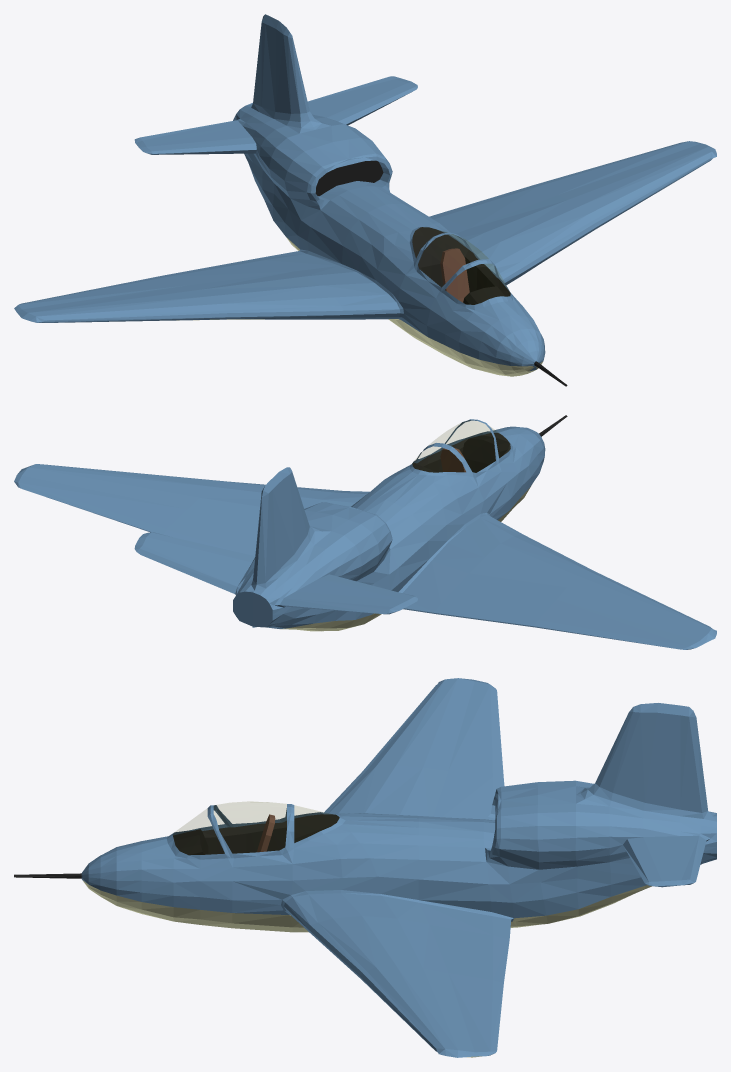
File: Aircraft 2 body.glb
3 renders of one model, top to bottom at view 1: azimuth 30°, elevation 25°; view 2: azimuth 150°, elevation 25°; view 3: azimuth 270°, elevation 25°, orthographic. The views are drawn at different scales.
Parts seen in each view (by area): view 1: tripo_node_edf78f18-7d13-4f10-a8f3-7c098e01f3a8; view 2: tripo_node_edf78f18-7d13-4f10-a8f3-7c098e01f3a8, tripo_node_edf78f18-7d13-4f10-a8f3-7c098e01f3a8.002; view 3: tripo_node_edf78f18-7d13-4f10-a8f3-7c098e01f3a8, tripo_node_edf78f18-7d13-4f10-a8f3-7c098e01f3a8.002.
Part boxes in pixels (left/top/right/bottom): tripo_node_edf78f18-7d13-4f10-a8f3-7c098e01f3a8: left=14, top=14, right=716, bottom=386; tripo_node_edf78f18-7d13-4f10-a8f3-7c098e01f3a8: left=14, top=415, right=716, bottom=649; tripo_node_edf78f18-7d13-4f10-a8f3-7c098e01f3a8.002: left=416, top=421, right=495, bottom=458; tripo_node_edf78f18-7d13-4f10-a8f3-7c098e01f3a8: left=14, top=678, right=716, bottom=1057; tripo_node_edf78f18-7d13-4f10-a8f3-7c098e01f3a8.002: left=176, top=802, right=319, bottom=831.
Size of what is drawn, in the model's own units: 15.55 by 4.25 by 12.17.
